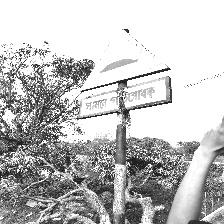Speed-breaker: (70, 26, 174, 121)
